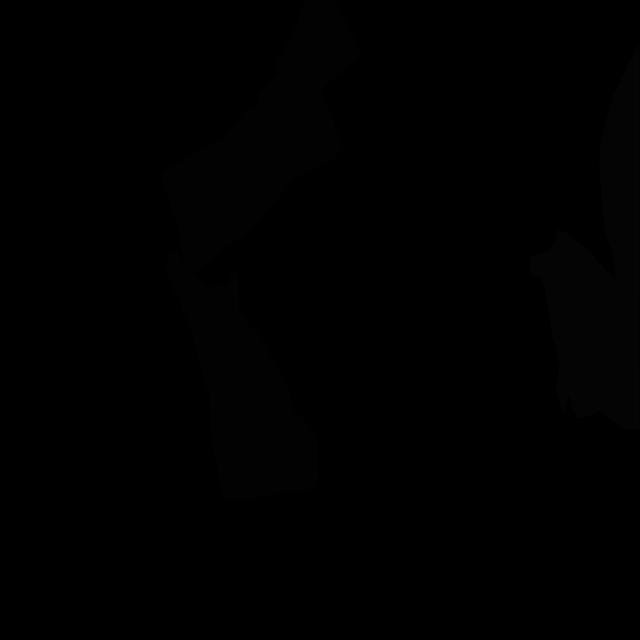cardboard: (162, 0, 362, 272), (166, 250, 318, 503)
soft_plastic: (530, 230, 640, 431), (599, 42, 640, 300)
